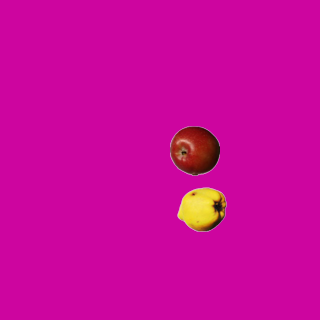Apple Braeburn: (169, 125, 219, 175)
Quince: (176, 184, 226, 234)
